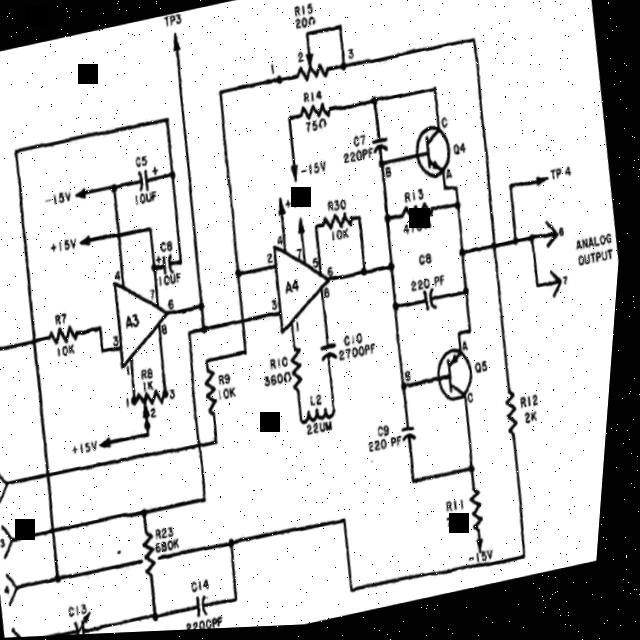capacitor: (130, 159, 171, 212), (196, 590, 228, 630), (71, 607, 112, 636), (318, 339, 350, 374), (420, 285, 447, 321), (402, 421, 429, 455), (161, 249, 186, 285), (368, 135, 397, 166)
inductor: (300, 402, 351, 437)
node: (138, 499, 161, 529), (166, 163, 186, 192), (56, 565, 75, 594), (365, 94, 387, 119), (106, 177, 130, 198), (233, 264, 252, 285), (156, 605, 171, 630), (401, 379, 418, 401), (468, 461, 485, 482), (228, 533, 245, 553), (528, 232, 544, 253), (335, 57, 351, 78), (458, 246, 473, 268), (454, 201, 468, 224), (387, 260, 403, 280), (152, 256, 166, 276), (512, 235, 524, 257), (361, 265, 374, 285), (489, 241, 503, 259), (464, 283, 477, 302), (393, 300, 406, 318), (199, 301, 212, 318), (201, 322, 214, 336)
resistor: (280, 338, 319, 408), (497, 385, 537, 449), (199, 361, 238, 424), (284, 47, 337, 93), (136, 526, 176, 584), (43, 311, 91, 359), (131, 379, 182, 420), (293, 90, 339, 135), (316, 201, 365, 242), (396, 194, 444, 234), (468, 487, 500, 544)
transistor: (404, 112, 467, 198), (429, 338, 493, 419)
